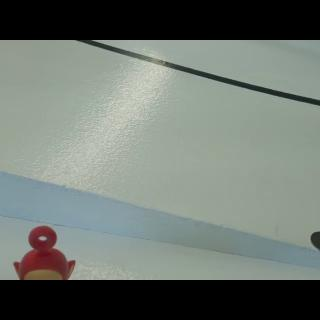teletubby: (14, 226, 75, 280)
